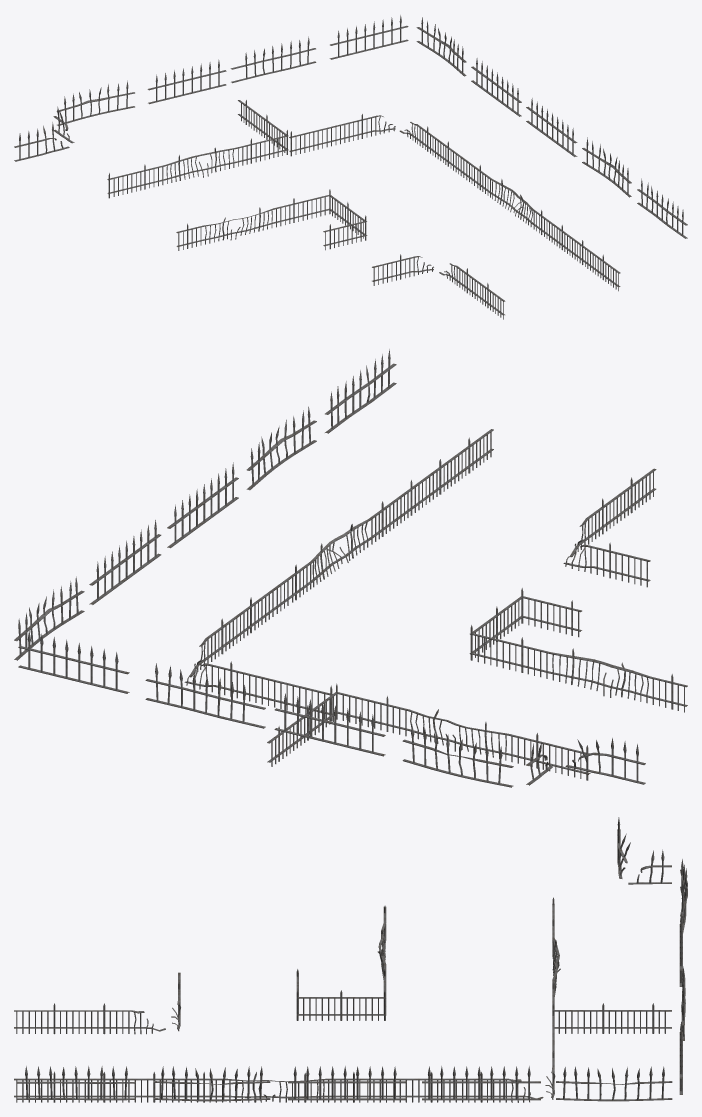
Rendered from Cemetery_STR_OuterWall_02_Fence.fbx.
The picture shows the model from 3 angles, top to bottom: view 1: azimuth 30°, elevation 25°; view 2: azimuth 150°, elevation 25°; view 3: azimuth 270°, elevation 25°; orthographic projection. The views are drawn at different scales.
Visible parts, largest first — view 1: Cemetery_STR_OuterWall_02_Fence; view 2: Cemetery_STR_OuterWall_02_Fence; view 3: Cemetery_STR_OuterWall_02_Fence.
Part boxes in pixels (<box>): Cemetery_STR_OuterWall_02_Fence: <box>14,15,687,319</box>; Cemetery_STR_OuterWall_02_Fence: <box>14,349,687,787</box>; Cemetery_STR_OuterWall_02_Fence: <box>14,817,687,1102</box>.
Size of the model in its own units: 1937 by 286 by 2161.
1 material, 1 textured.
